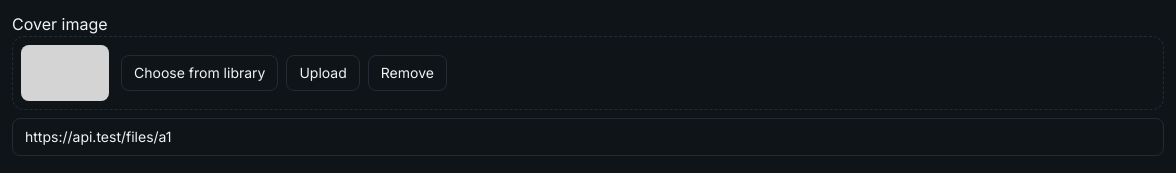
Scenario: FileField › previews an image value and can remove it
The width and height of the screenshot is (1176, 173).
What coordinates should you click on to do the following:
click the button "Remove"
I would click on:
 (407, 73)
Its box is [368,55,447,91].
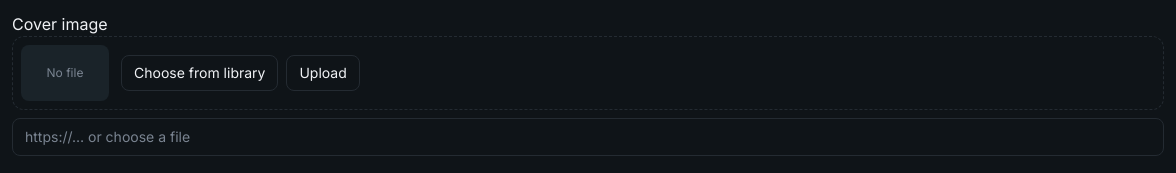
Expected: the picture is gone
